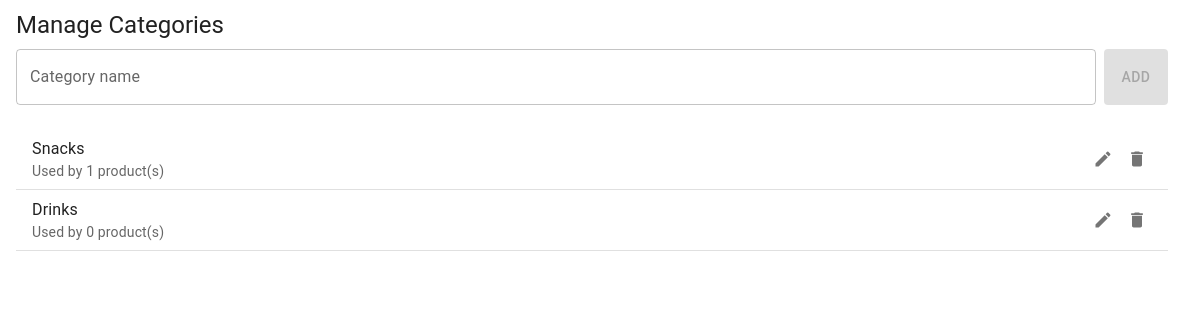
Test case: ManageCategoriesScreen additional › deletes category when no products reference it
# Click the "Delete Snacks" icon/button (specific aria-label)
Step 1. Click the button named "delete snacks" → x=1137, y=159, box [1122,144,1152,174]
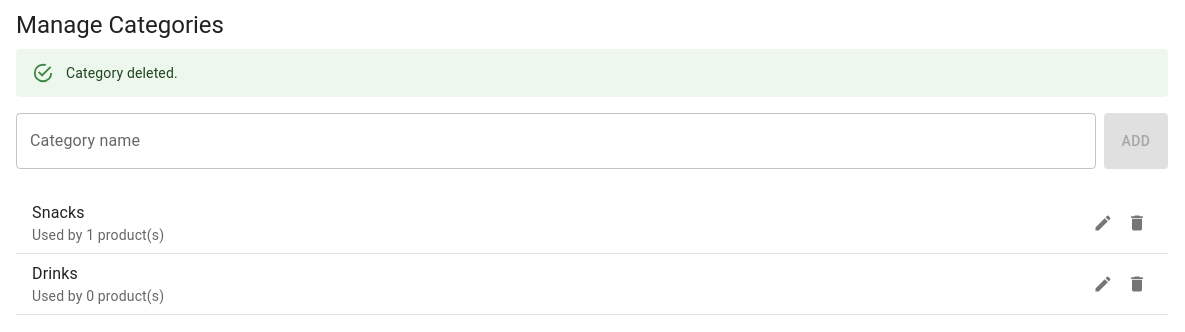
expect the text "Category deleted." is shown: met, box [66,65,178,81]
